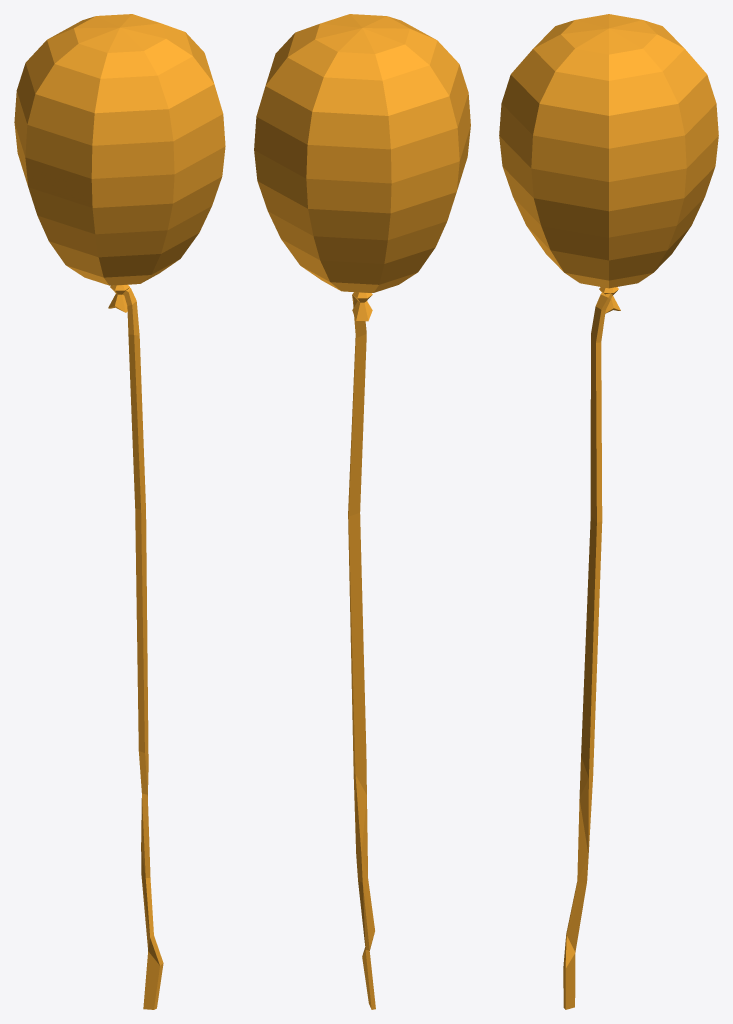
The model's file is SM_Balloon_Small_Stripes_Ribbon.fbx.
3 renders of one model, left to right at view 1: azimuth 30°, elevation 25°; view 2: azimuth 150°, elevation 25°; view 3: azimuth 270°, elevation 25°, orthographic. The views are drawn at different scales.
Parts seen in each view (by area): view 1: balloon-small-stripes-ribbon; view 2: balloon-small-stripes-ribbon; view 3: balloon-small-stripes-ribbon.
Boxes of the visible parts, <box> form: balloon-small-stripes-ribbon: <box>14,14,225,1009</box>; balloon-small-stripes-ribbon: <box>254,14,470,1009</box>; balloon-small-stripes-ribbon: <box>499,14,718,1009</box>.
Bounding box in the file's own units: 0.2665 × 1.3 × 0.2665.
